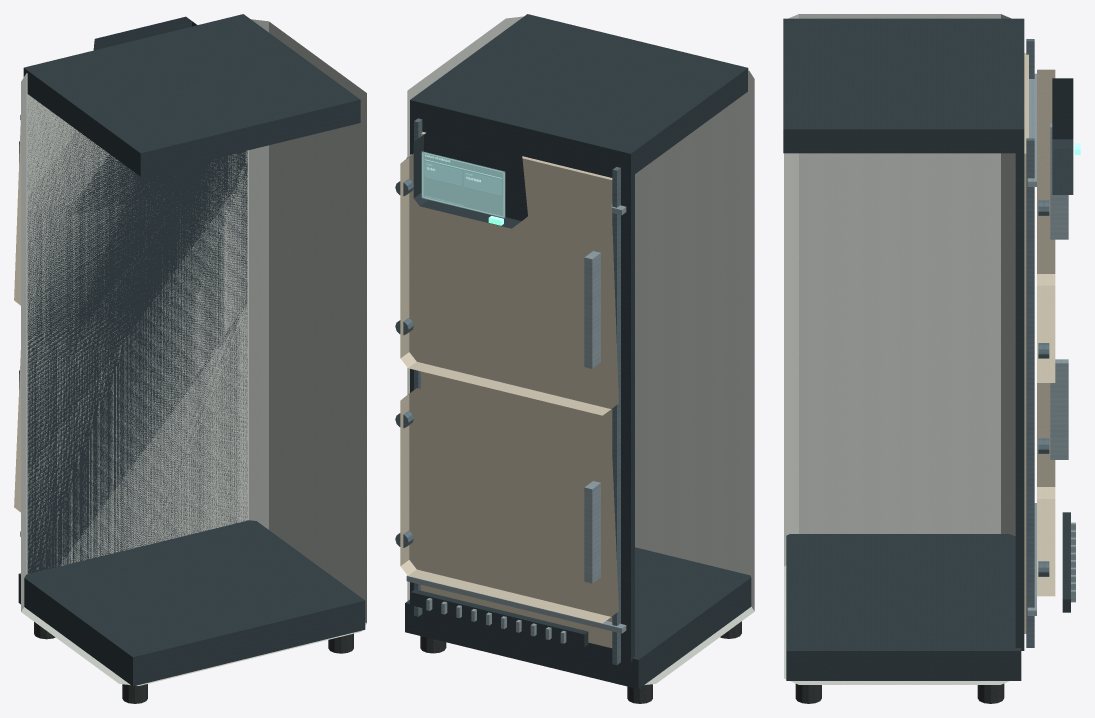
The model's file is cold_storage_unit.glb.
The picture shows the model from 3 angles, left to right: view 1: azimuth 30°, elevation 25°; view 2: azimuth 150°, elevation 25°; view 3: azimuth 270°, elevation 25°; orthographic projection. The views are drawn at different scales.
Visible parts, largest first — view 1: static__shell, front_frame__graphite, static__graphite, Display__graphite, feet__rubber, Door_1__cream, Door_2__cream; view 2: static__shell, static__graphite, Door_1__cream, Door_2__cream, front_frame__graphite, access_panel__cream, Display__graphite, Display__ui_coldstore, static__trim, Floor_Condenser_Grille__graphite, Door_1_Handle__alloy, Door_2_Handle__alloy (+3 smaller); view 3: static__shell, static__graphite, front_frame__graphite, Door_1__cream, static__trim, Door_2__cream, Display__graphite, access_panel__cream, Door_2_Handle__alloy, static__alloy, Door_1_Handle__alloy, feet__rubber (+1 smaller).
Boxes of the visible parts, x1,y1,x2,y2 form: static__shell: [21, 19, 366, 685]; front_frame__graphite: [27, 99, 247, 573]; static__graphite: [18, 14, 365, 686]; Display__graphite: [93, 16, 197, 50]; feet__rubber: [34, 622, 353, 703]; Door_1__cream: [14, 120, 20, 305]; Door_2__cream: [14, 350, 20, 512]; static__shell: [407, 16, 754, 684]; static__graphite: [405, 14, 751, 688]; Door_1__cream: [400, 153, 618, 415]; Door_2__cream: [400, 388, 618, 623]; front_frame__graphite: [410, 117, 634, 662]; access_panel__cream: [421, 132, 612, 648]; Display__graphite: [413, 130, 527, 228]; Display__ui_coldstore: [421, 151, 505, 218]; static__trim: [414, 118, 620, 665]; Floor_Condenser_Grille__graphite: [411, 589, 588, 647]; Door_1_Handle__alloy: [584, 251, 600, 368]; Door_2_Handle__alloy: [584, 481, 600, 583]; static__shell: [784, 14, 1015, 684]; static__graphite: [783, 18, 1024, 680]; front_frame__graphite: [1015, 147, 1024, 650]; Door_1__cream: [1037, 69, 1055, 382]; static__trim: [1026, 39, 1034, 647]; Door_2__cream: [1037, 383, 1055, 596]; Display__graphite: [1052, 78, 1073, 194]; access_panel__cream: [1024, 53, 1028, 633]; Door_2_Handle__alloy: [1050, 359, 1068, 459]; static__alloy: [1027, 73, 1036, 615]; Door_1_Handle__alloy: [1050, 123, 1068, 239]; feet__rubber: [795, 683, 1004, 703].
Bounding box in the file's own units: 0.89 × 1.91 × 0.898.
Materials: 8 (8 with a texture image).
